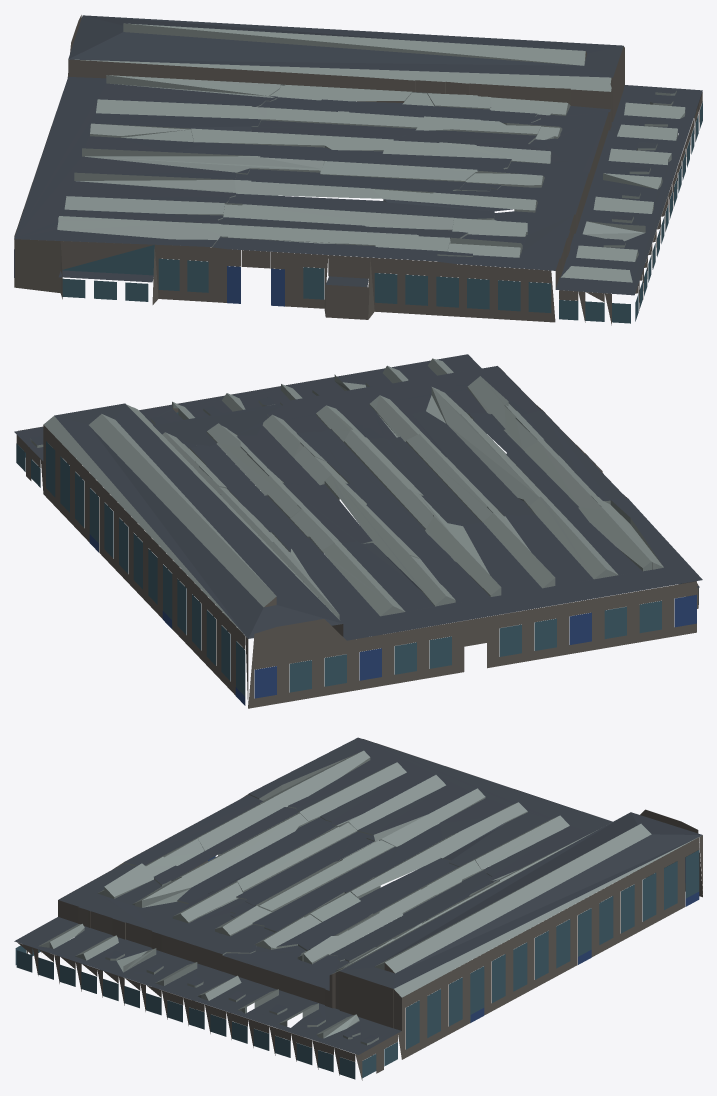
File: ndsm-warehouse-complex.lod2.glb
3 views of the same model, one above another, from view 1: azimuth 30°, elevation 25°; view 2: azimuth 150°, elevation 25°; view 3: azimuth 270°, elevation 25° (orthographic). The views are drawn at different scales.
Visible parts, largest first — view 1: lod2; view 2: lod2; view 3: lod2.
Part boxes in pixels (box(x1,y1,x2,y2)): lod2: box(14, 15, 702, 325); lod2: box(14, 354, 702, 708); lod2: box(14, 737, 702, 1080).
Bounding box in the file's own units: 204 × 24.28 × 198.
